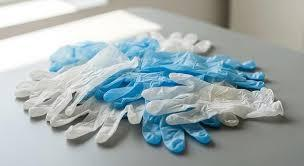Glove: (15, 46, 137, 119), (142, 73, 282, 124), (140, 52, 264, 89), (65, 97, 143, 142), (142, 112, 220, 152), (91, 72, 175, 108), (49, 41, 106, 71), (150, 32, 211, 53)
